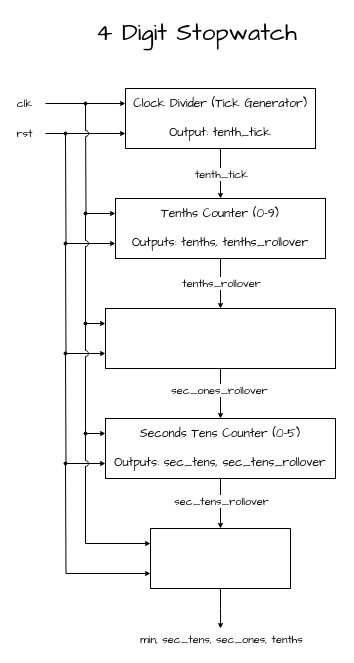
Image size: 354x663. Some labels were removed from this diagram. Each missing label, with the centre of its shape:
"Minute Counter (0–9) Output: minute" belongs at pixel 220 558.
"Seconds Ones Counter (0–9) Outputs: sec_ones, sec_ones_rollover" belongs at pixel 220 338.
